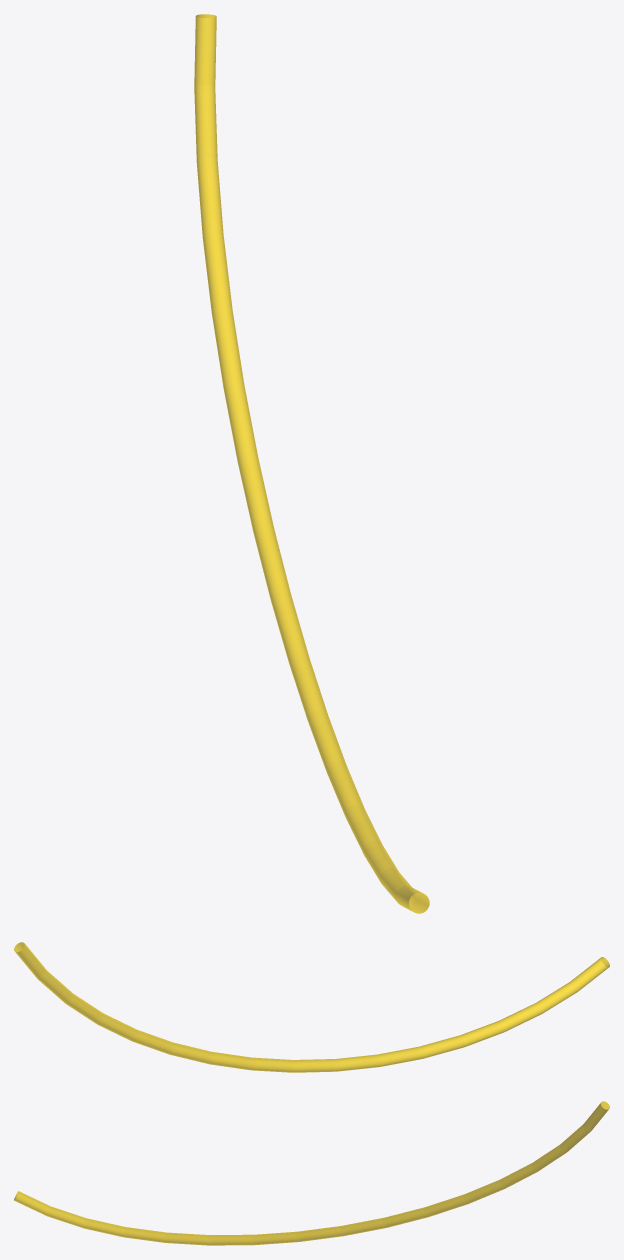
Rendered from Event_40932208_track_5.fbx.
3 renders of one model, top to bottom at view 1: azimuth 30°, elevation 25°; view 2: azimuth 150°, elevation 25°; view 3: azimuth 270°, elevation 25°, orthographic. The views are drawn at different scales.
Parts seen in each view (by area): view 1: Model; view 2: Model; view 3: Model.
Part boxes in pixels (<box>): Model: <box>194,14,429,913</box>; Model: <box>14,942,609,1072</box>; Model: <box>14,1101,609,1245</box>.
Size of the model in its own units: 0.8577 by 0.8778 by 2.25.
